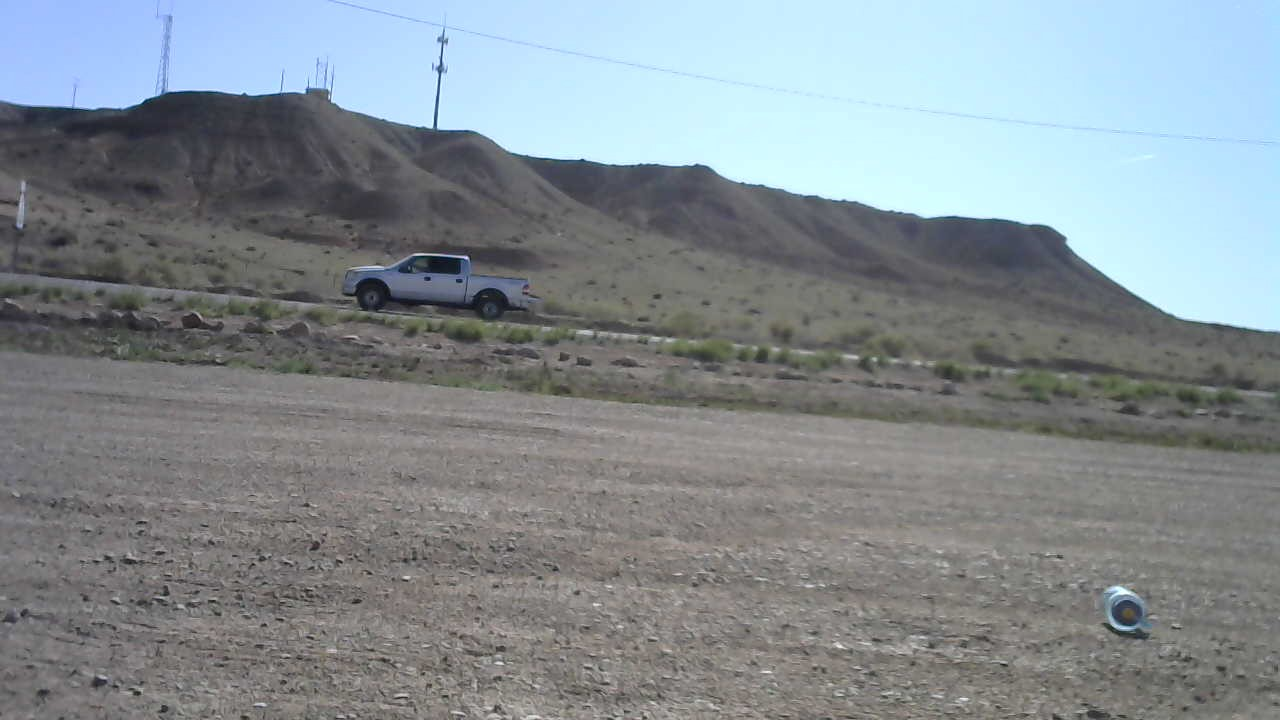bottle: (1095, 580, 1156, 636)
